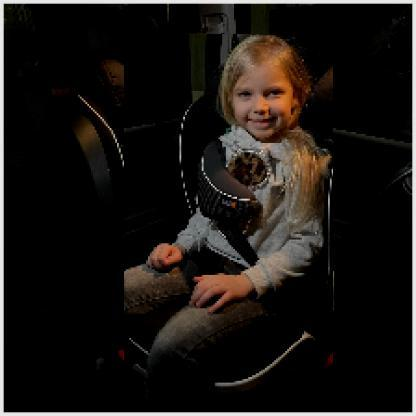child: (126, 35, 336, 413)
